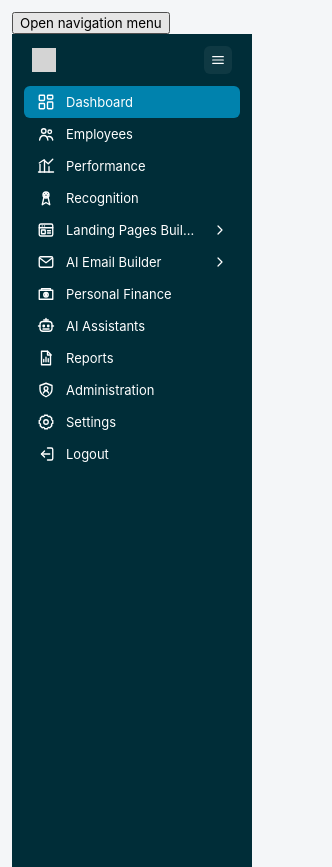
AppSidebar navigation › expands the group on click and shows all three children with correct routes
Click the button "Landing Pages Builder" at [132, 230], box [24, 214, 240, 246]
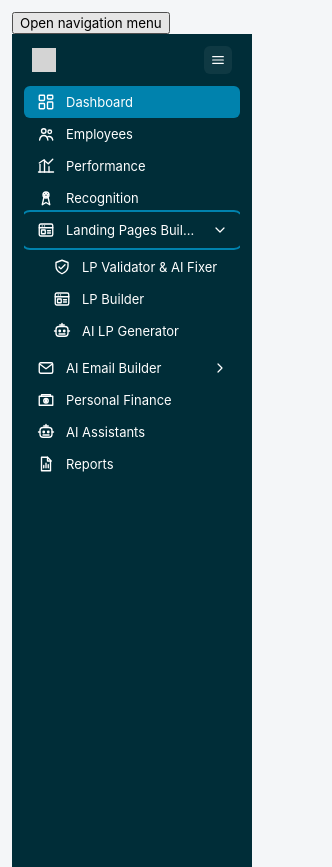
Now the button "Landing Pages Builder" is expanded, box [24, 214, 240, 246]
